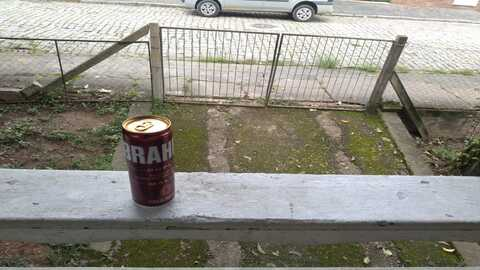duplo_malte: (117, 120, 182, 209)
